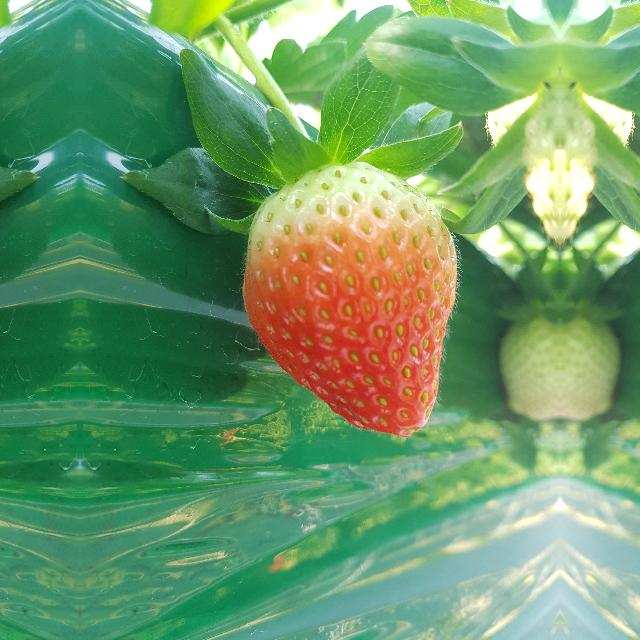Health_75: (240, 160, 460, 438)
